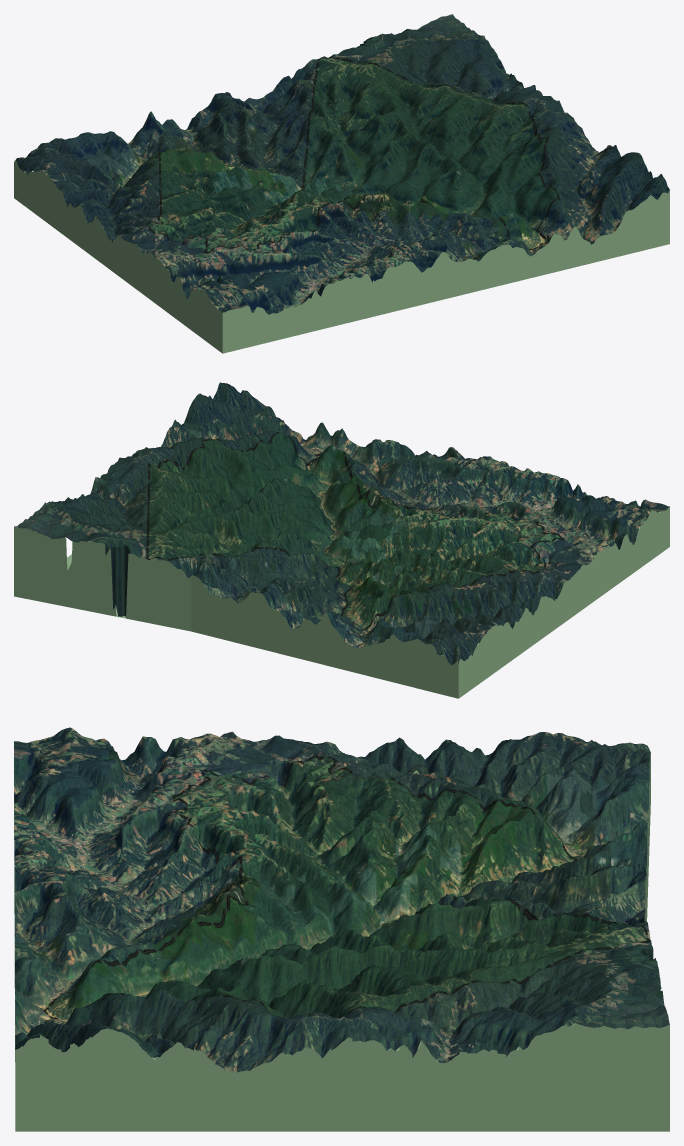
Rendered from modelo.glb.
3 views of the same model, one above another, from view 1: azimuth 30°, elevation 25°; view 2: azimuth 150°, elevation 25°; view 3: azimuth 270°, elevation 25° (orthographic). The views are drawn at different scales.
Visible parts, largest first — view 1: srtm exagero 4, side; view 2: srtm exagero 4, side; view 3: srtm exagero 4, side.
Boxes of the visible parts, x1=… form: srtm exagero 4: x1=15, y1=14, x2=669, y2=314; side: x1=14, y1=160, x2=669, y2=353; srtm exagero 4: x1=14, y1=382, x2=669, y2=665; side: x1=14, y1=507, x2=669, y2=698; srtm exagero 4: x1=14, y1=727, x2=669, y2=1072; side: x1=14, y1=752, x2=669, y2=1131.
Bounding box in the file's own units: 32.32 × 5.04 × 27.24.
3 materials, 1 textured.
